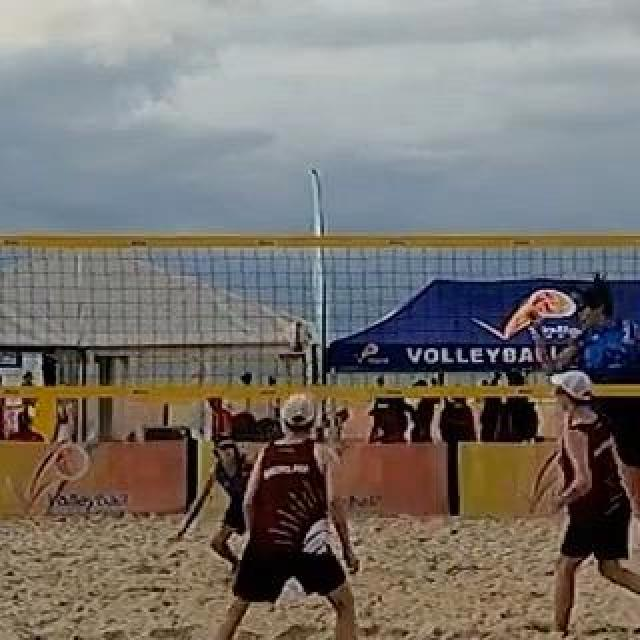volleyball: (284, 321, 312, 349)
